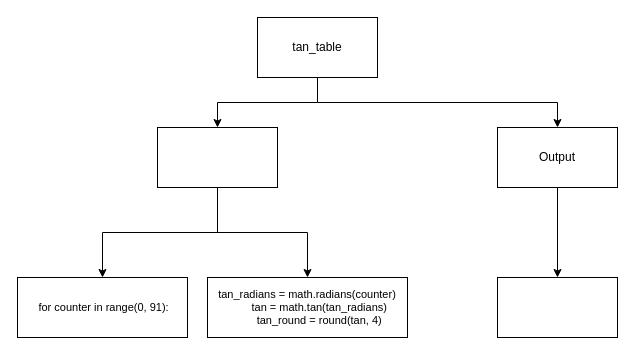
This 635x355 diagram has some shape labels left out. The box of each missing label's shape, as (x1, y1, x2, y2) in pixels:
Process: (156, 126, 278, 188)
Show answer: (496, 276, 618, 338)
